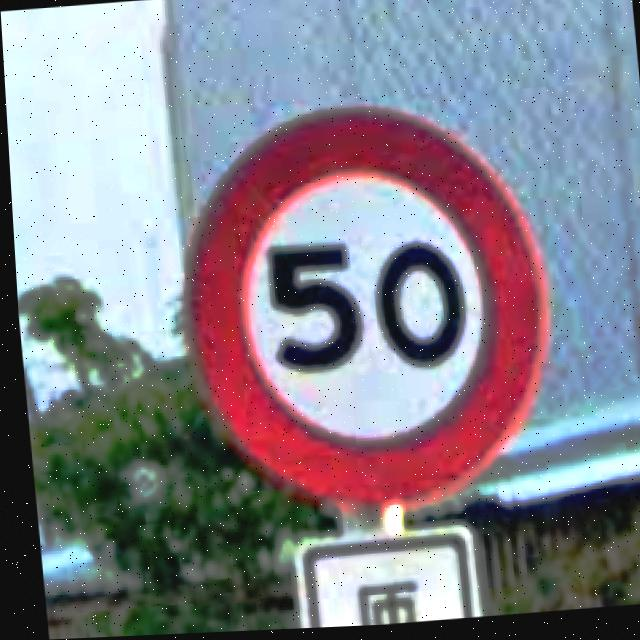max50: (159, 92, 559, 527)
